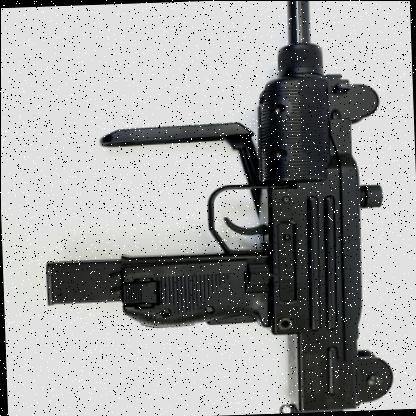rifle: (31, 0, 409, 416)
